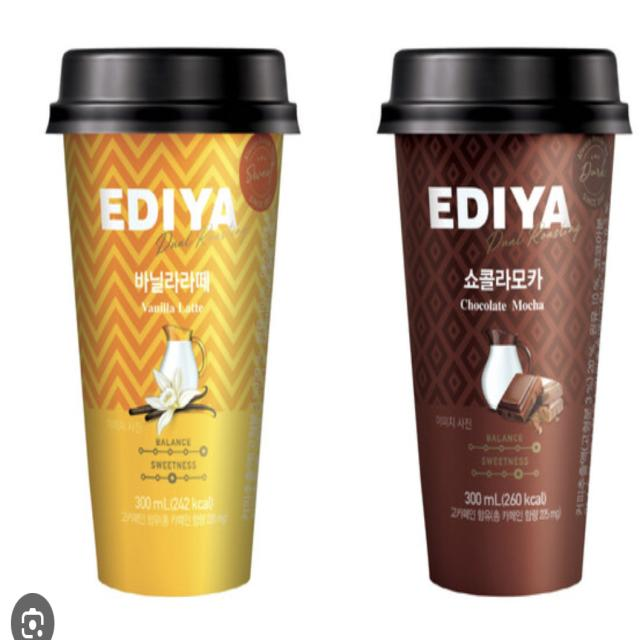recyclable: (364, 29, 640, 608), (40, 30, 302, 606)
